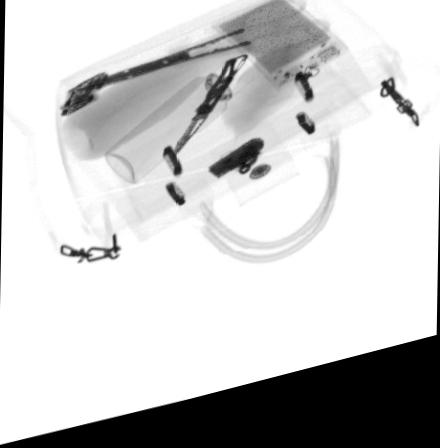Knife: (166, 67, 249, 172)
Powerbank: (207, 3, 350, 105)
Scissors: (67, 11, 327, 97)
Sprayer: (104, 67, 254, 192)
